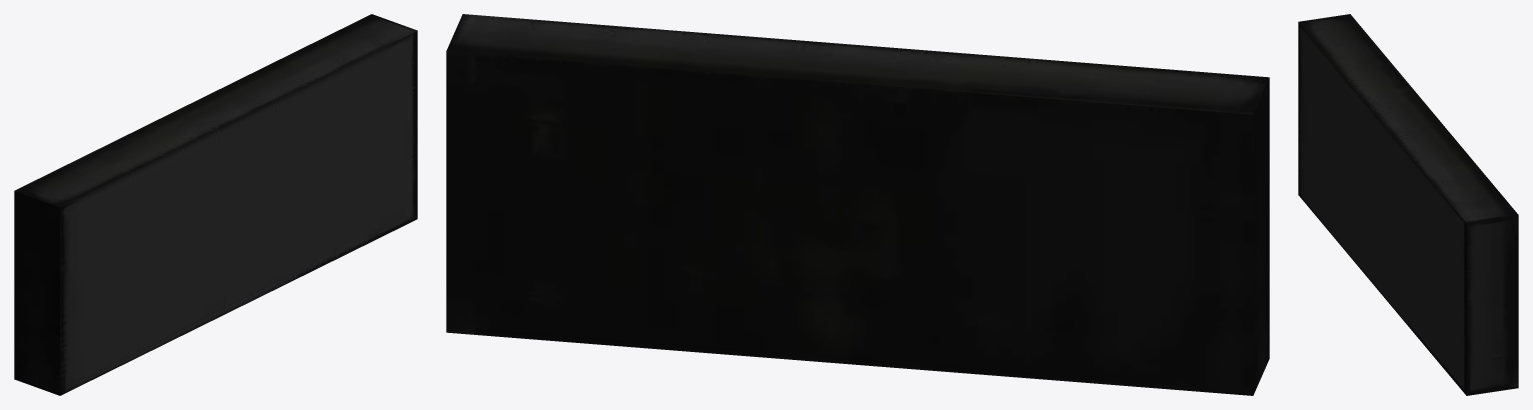
File: backrest__backrest_pad.glb
The picture shows the model from 3 angles, left to right: view 1: azimuth 30°, elevation 25°; view 2: azimuth 150°, elevation 25°; view 3: azimuth 270°, elevation 25°; orthographic projection. The views are drawn at different scales.
Parts seen in each view (by area): view 1: world; view 2: world; view 3: world.
Part boxes in pixels (x1,y1,x2,y2): world: (14, 14, 417, 395); world: (446, 14, 1269, 395); world: (1298, 14, 1518, 395).
Size of the model in its own units: 0.8031 by 0.31 by 0.3583.
Materials: 1 (1 with a texture image).
